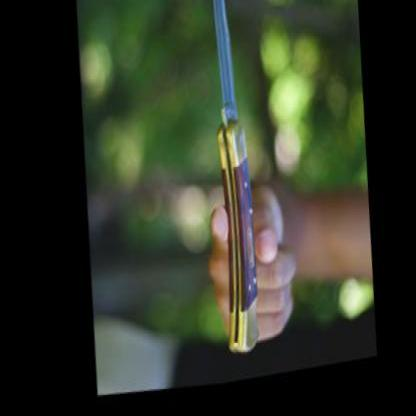knife: (182, 0, 280, 373)
